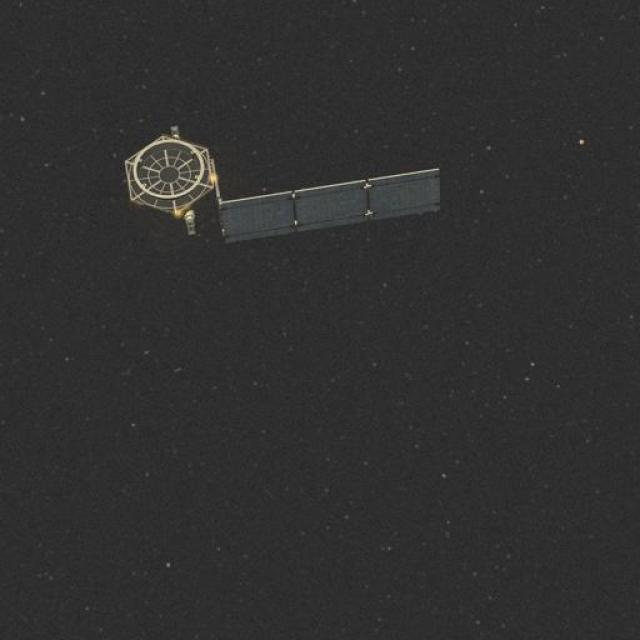earth_observation_sat_1: (85, 115, 458, 248)
